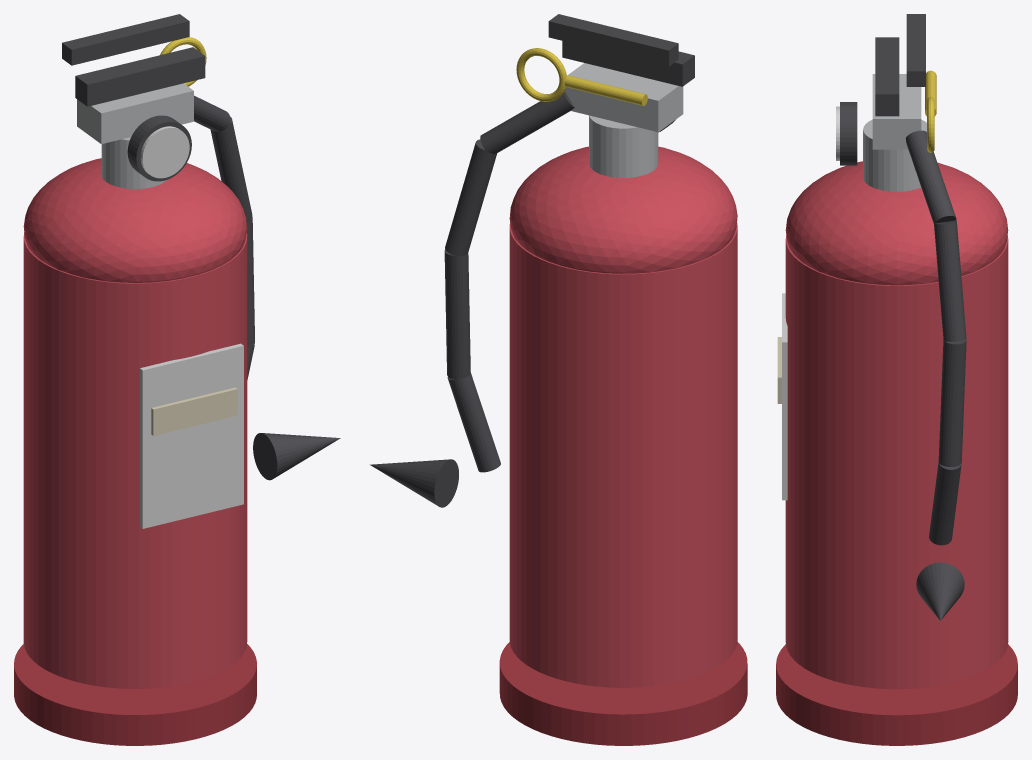
The model's file is extintor-b-espuma.glb.
3 views of the same model, side by side, from view 1: azimuth 30°, elevation 25°; view 2: azimuth 150°, elevation 25°; view 3: azimuth 270°, elevation 25° (orthographic). The views are drawn at different scales.
Parts seen in each view (by area): view 1: B_cuerpo, B_hombro, B_etiqueta, B_base, B_manija, B_valvula, B_palanca, B_franja, B_boquilla, B_manometro_cara, B_manguera_1, B_cuello (+3 smaller); view 2: B_cuerpo, B_hombro, B_base, B_valvula, B_cuello, B_palanca, B_manguera_2, B_manguera_1, B_manija, B_boquilla, B_manguera_3, B_manguera_0 (+2 smaller); view 3: B_cuerpo, B_hombro, B_base, B_manguera_2, B_manguera_1, B_cuello, B_valvula, B_manguera_0, B_manija, B_boquilla, B_manguera_3, B_palanca (+3 smaller).
Part boxes in pixels (x1=…): B_cuerpo: x1=23, y1=232, x2=247, y2=688; B_hombro: x1=23, y1=158, x2=247, y2=282; B_etiqueta: x1=140, y1=343, x2=243, y2=528; B_base: x1=14, y1=644, x2=256, y2=745; B_manija: x1=75, y1=47, x2=205, y2=106; B_valvula: x1=77, y1=83, x2=193, y2=144; B_palanca: x1=62, y1=14, x2=189, y2=65; B_franja: x1=151, y1=387, x2=237, y2=435; B_boquilla: x1=253, y1=433, x2=340, y2=480; B_manometro_cara: x1=140, y1=126, x2=189, y2=178; B_manguera_1: x1=210, y1=116, x2=252, y2=221; B_cuello: x1=101, y1=137, x2=166, y2=188; B_cuerpo: x1=509, y1=222, x2=737, y2=687; B_hombro: x1=509, y1=146, x2=737, y2=273; B_base: x1=499, y1=642, x2=747, y2=745; B_valvula: x1=565, y1=63, x2=683, y2=132; B_cuello: x1=589, y1=115, x2=658, y2=177; B_palanca: x1=548, y1=14, x2=678, y2=66; B_manguera_2: x1=444, y1=249, x2=470, y2=379; B_manguera_1: x1=445, y1=139, x2=496, y2=256; B_manija: x1=562, y1=41, x2=694, y2=86; B_boquilla: x1=370, y1=459, x2=458, y2=507; B_manguera_3: x1=447, y1=373, x2=500, y2=472; B_manguera_0: x1=480, y1=91, x2=574, y2=153; B_cuerpo: x1=785, y1=235, x2=1008, y2=689; B_hombro: x1=785, y1=161, x2=1008, y2=285; B_base: x1=776, y1=644, x2=1017, y2=745; B_manguera_2: x1=938, y1=339, x2=966, y2=466; B_manguera_1: x1=934, y1=220, x2=966, y2=341; B_cuello: x1=863, y1=119, x2=926, y2=191; B_valvula: x1=872, y1=74, x2=921, y2=149; B_manguera_0: x1=906, y1=130, x2=956, y2=223; B_manija: x1=875, y1=37, x2=899, y2=116; B_boquilla: x1=916, y1=562, x2=964, y2=620; B_manguera_3: x1=929, y1=462, x2=961, y2=545; B_palanca: x1=906, y1=14, x2=925, y2=86.
Bounding box in the file's own units: 0.395 × 0.744 × 0.25.
